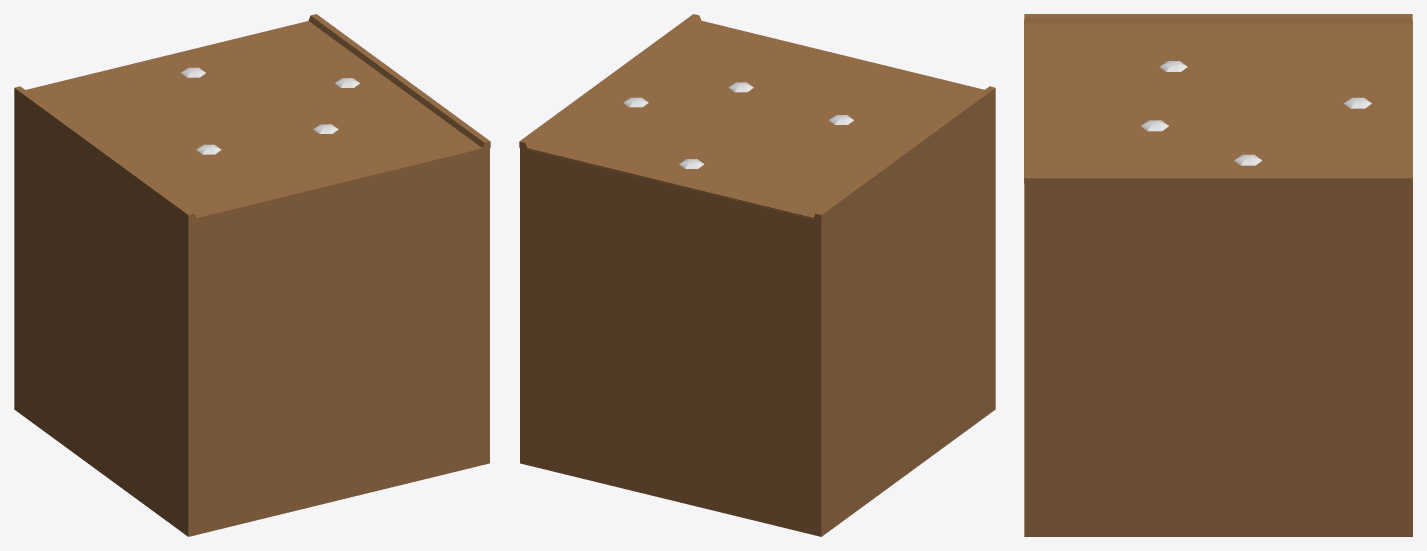
File: dirt-road-1.gltf
The picture shows the model from 3 angles, left to right: view 1: azimuth 30°, elevation 25°; view 2: azimuth 150°, elevation 25°; view 3: azimuth 270°, elevation 25°; orthographic projection. The views are drawn at different scales.
Visible parts, largest first — view 1: Cube.001, Cube.003, Cube.002; view 2: Cube.001, Cube.003, Cube.002; view 3: Cube.001, Cube.003, Cube.002.
Boxes of the visible parts, x1,y1,x2,y2 form: Cube.001: [14, 94, 489, 536]; Cube.003: [26, 21, 490, 221]; Cube.002: [14, 14, 490, 221]; Cube.001: [520, 94, 995, 536]; Cube.003: [527, 21, 984, 218]; Cube.002: [519, 14, 995, 221]; Cube.001: [1024, 21, 1412, 536]; Cube.003: [1024, 19, 1412, 183]; Cube.002: [1024, 14, 1412, 185].
Size of the model in its own units: 2 by 2.04 by 2.
